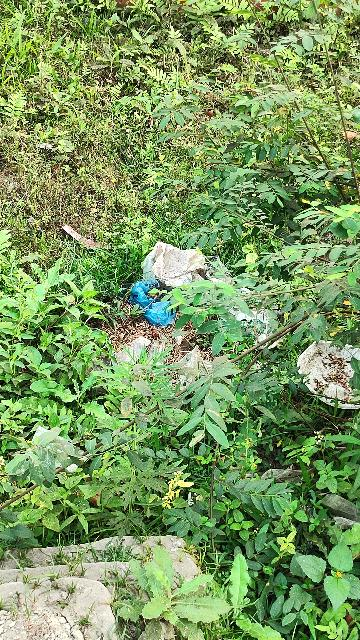polythene: (133, 243, 237, 339)
